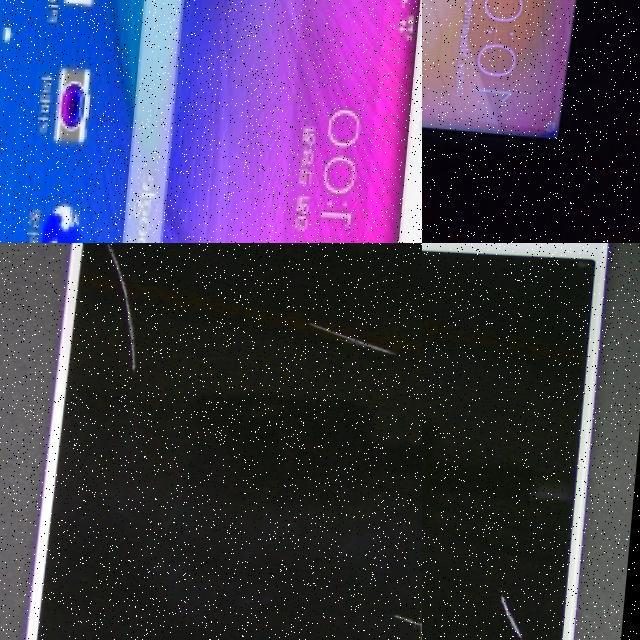scratch: (93, 243, 150, 371), (301, 314, 397, 353), (501, 583, 546, 640)
